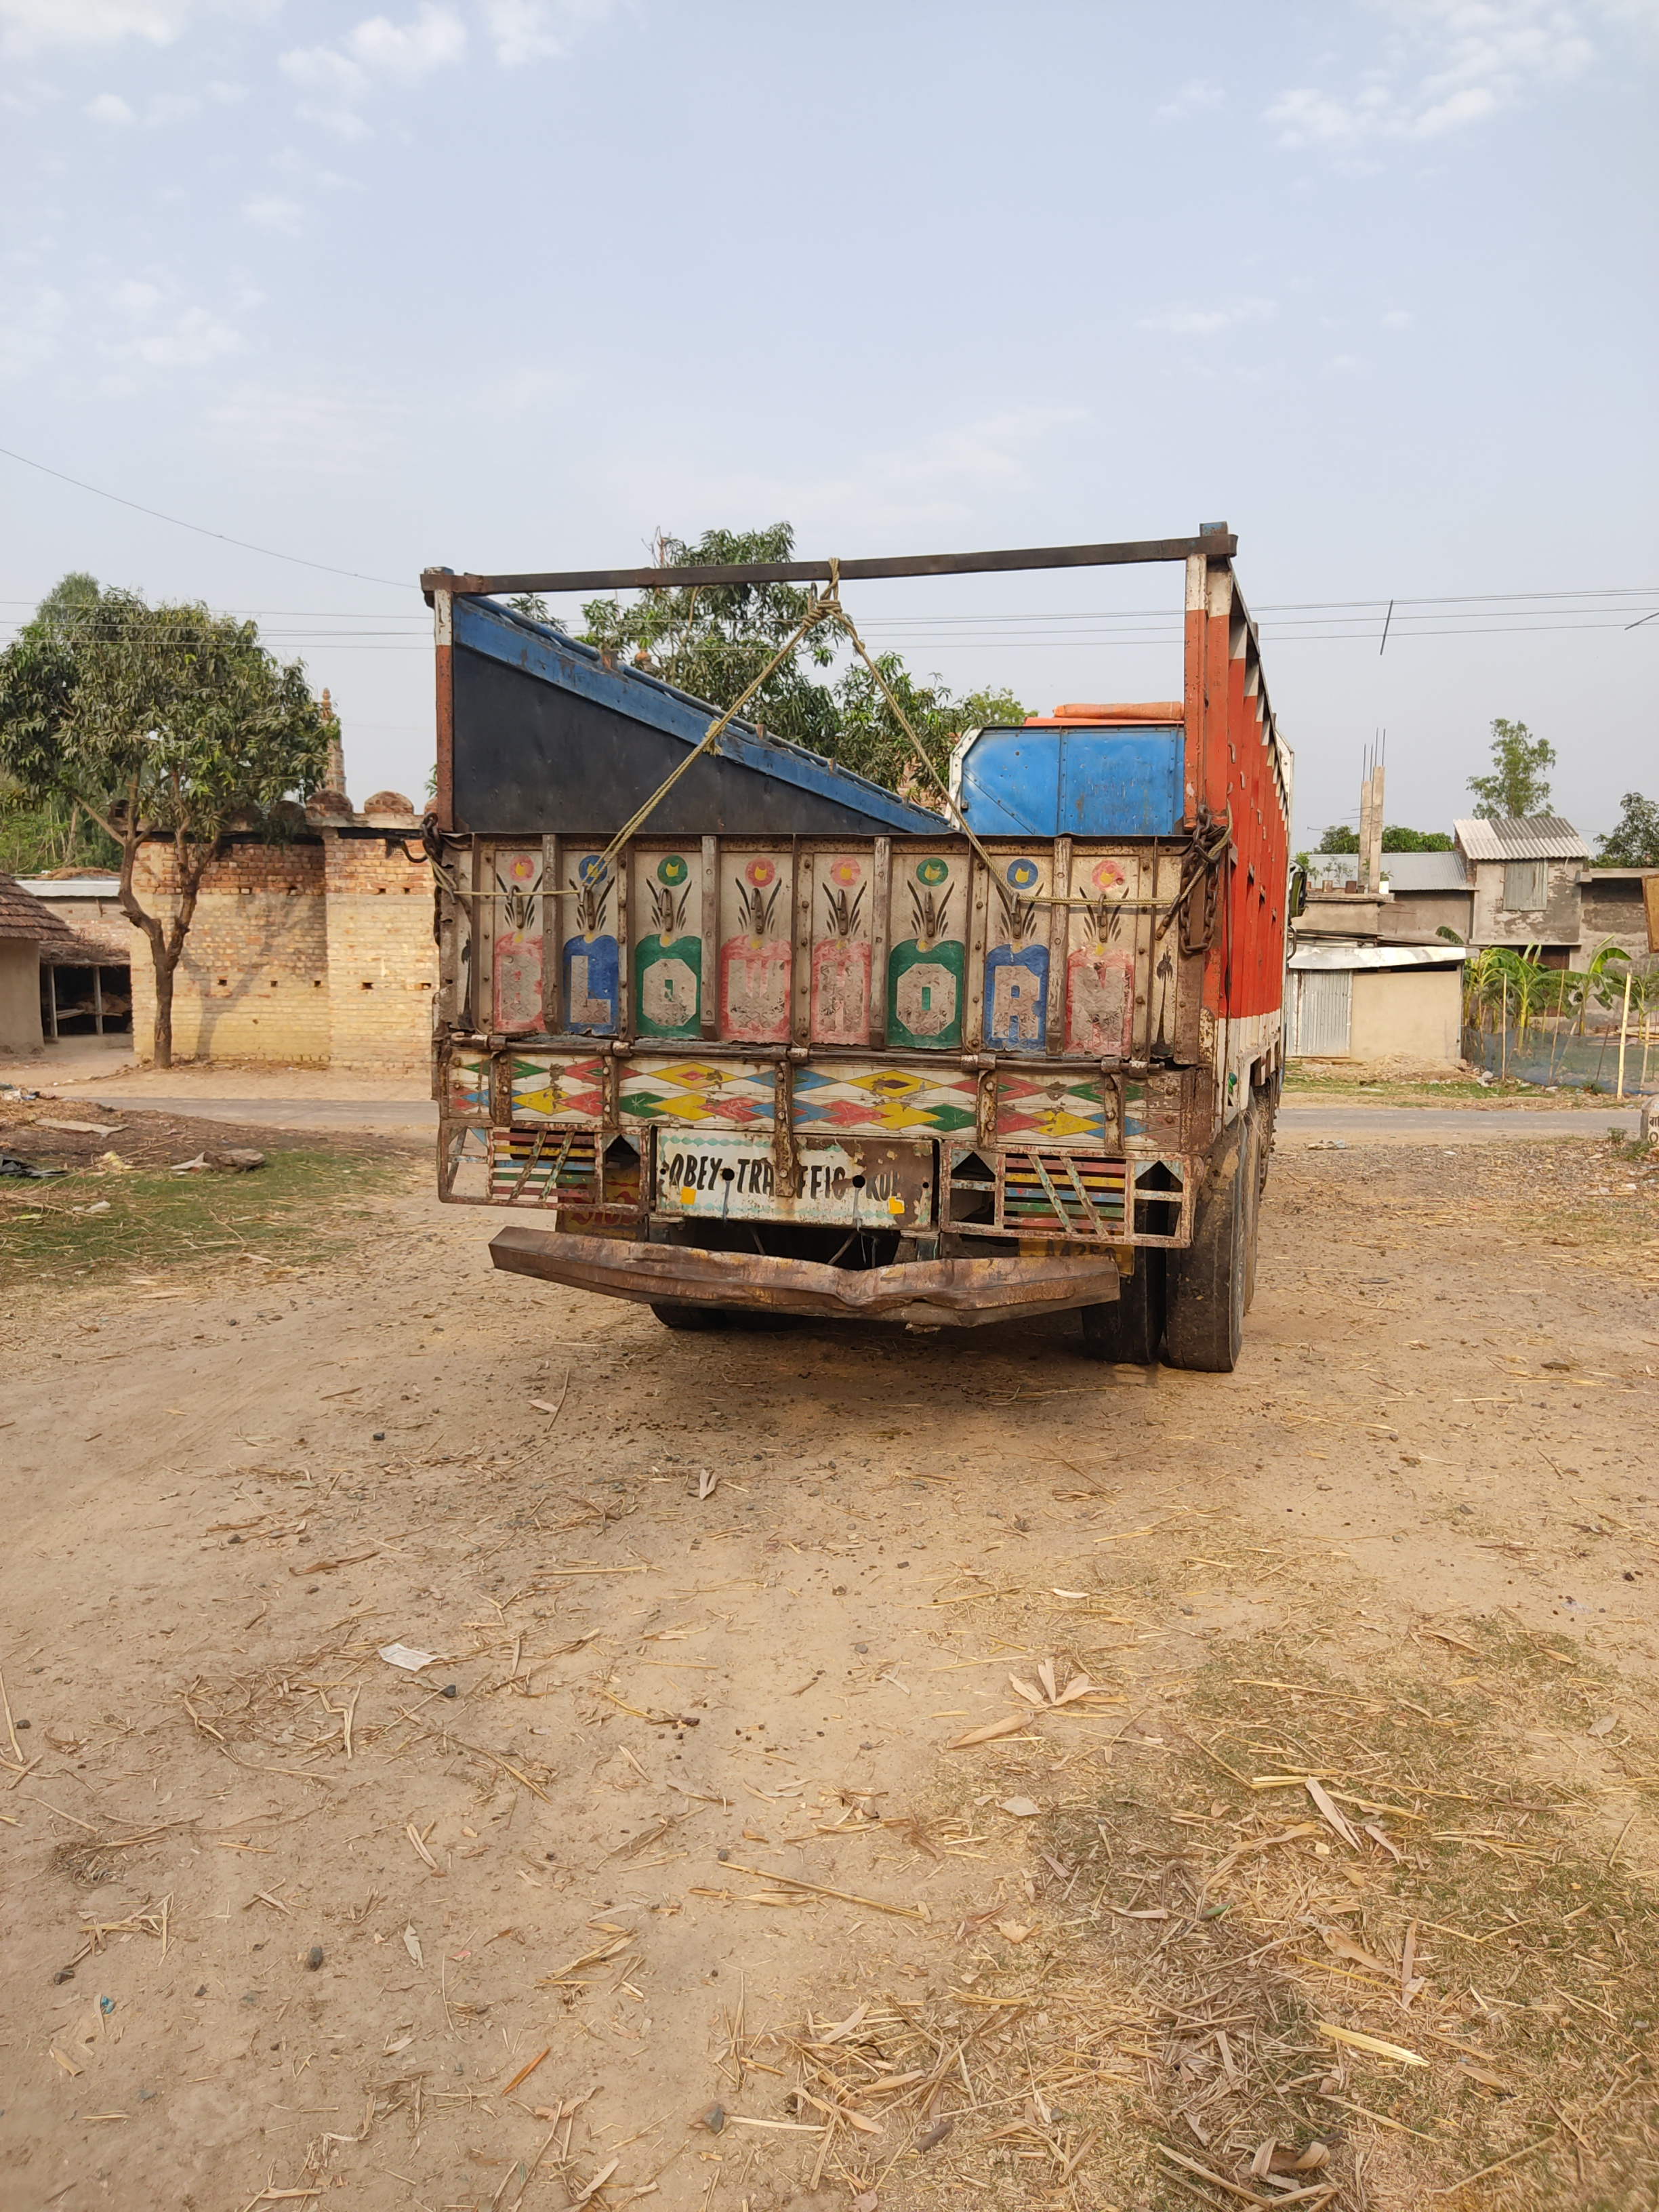truck: (415, 517, 1310, 1376)
